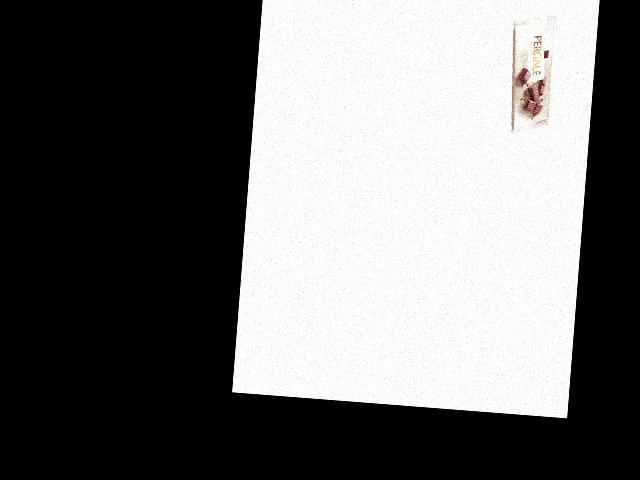chocolate: (506, 10, 556, 138)
